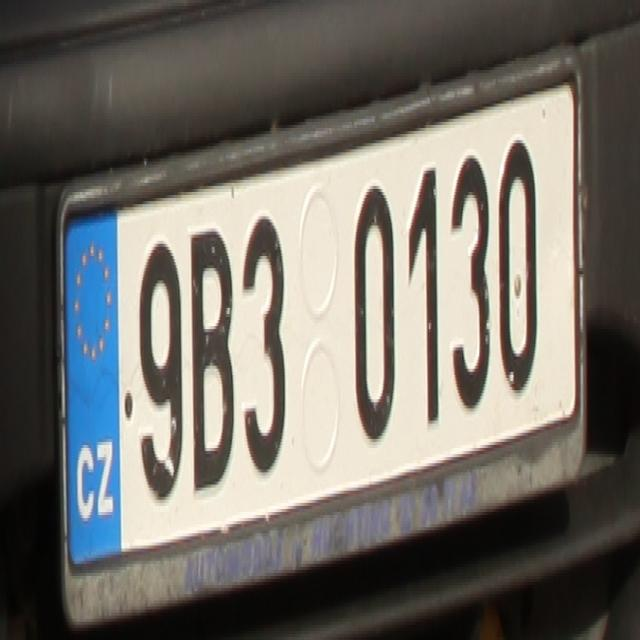0: (352, 183, 398, 436), (498, 140, 540, 399)
1: (409, 168, 442, 430)
3: (450, 150, 495, 418), (240, 216, 286, 454)
9: (136, 244, 184, 500)
B: (190, 222, 233, 500)
